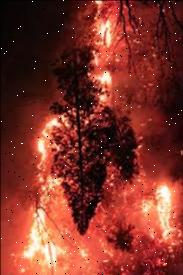fire: (20, 103, 92, 275), (101, 182, 183, 273), (88, 0, 126, 108)
